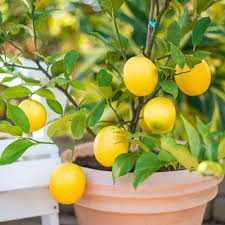Lemon: (114, 49, 162, 104), (45, 163, 92, 213), (88, 121, 127, 167), (139, 87, 171, 135), (16, 94, 47, 138)
